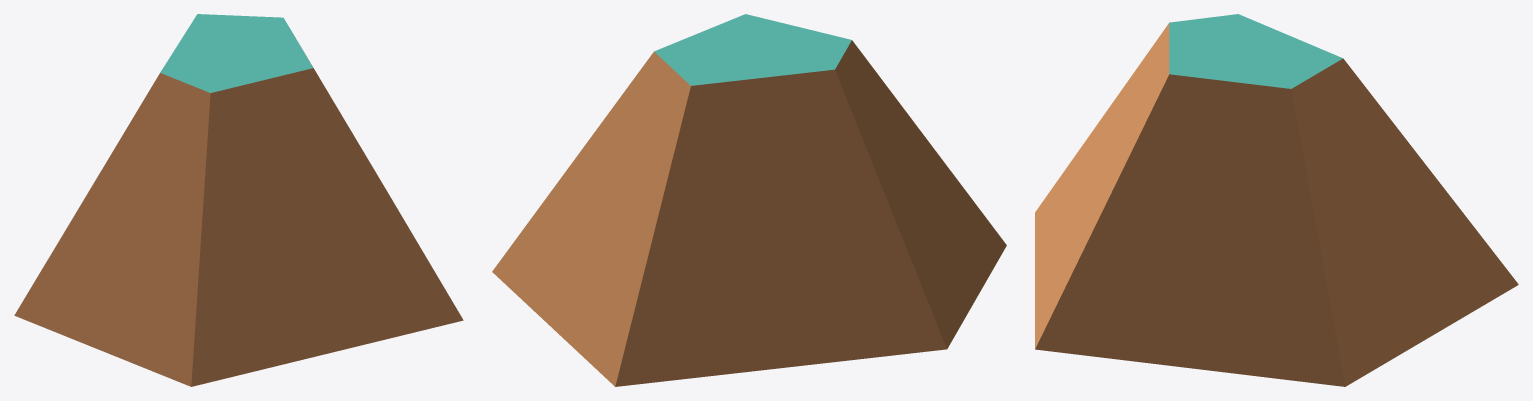
File: rock_small1.obj
The picture shows the model from 3 angles, left to right: view 1: azimuth 30°, elevation 25°; view 2: azimuth 150°, elevation 25°; view 3: azimuth 270°, elevation 25°; orthographic projection. The views are drawn at different scales.
Visible parts, largest first — view 1: rock_small1; view 2: rock_small1; view 3: rock_small1.
Part boxes in pixels (<box>): rock_small1: <box>14,14,463,386</box>; rock_small1: <box>492,14,1006,386</box>; rock_small1: <box>1035,14,1518,386</box>.
Size of the model in its own units: 3.61 by 1.91 by 3.61.
